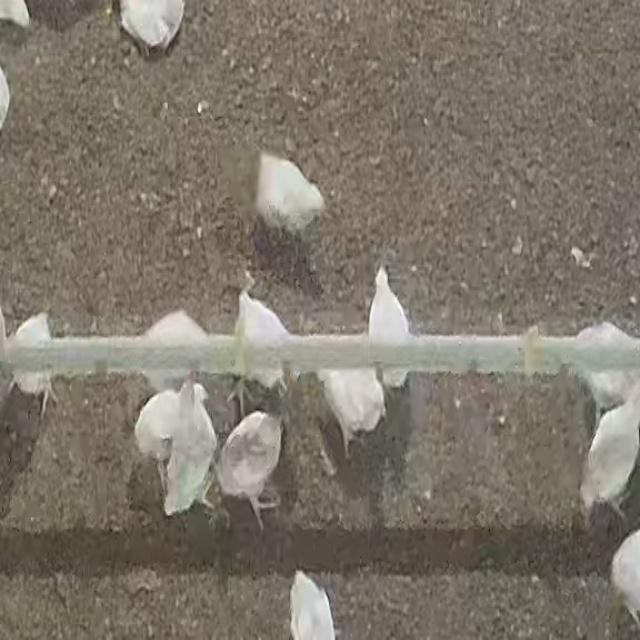chicken: (582, 371, 640, 521), (159, 372, 217, 519), (216, 407, 285, 527), (232, 287, 294, 413), (317, 369, 387, 462), (139, 310, 211, 399), (254, 147, 326, 235), (4, 309, 59, 422), (570, 322, 638, 412), (131, 383, 207, 456), (372, 266, 411, 388), (288, 570, 339, 640), (118, 0, 186, 52)
